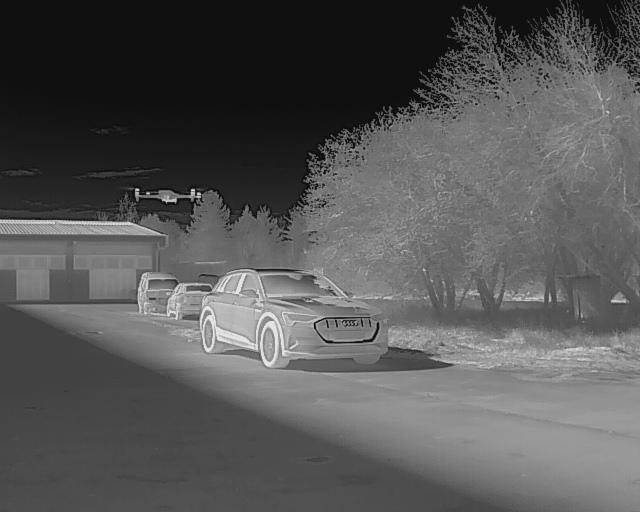drone: (128, 174, 207, 211)
